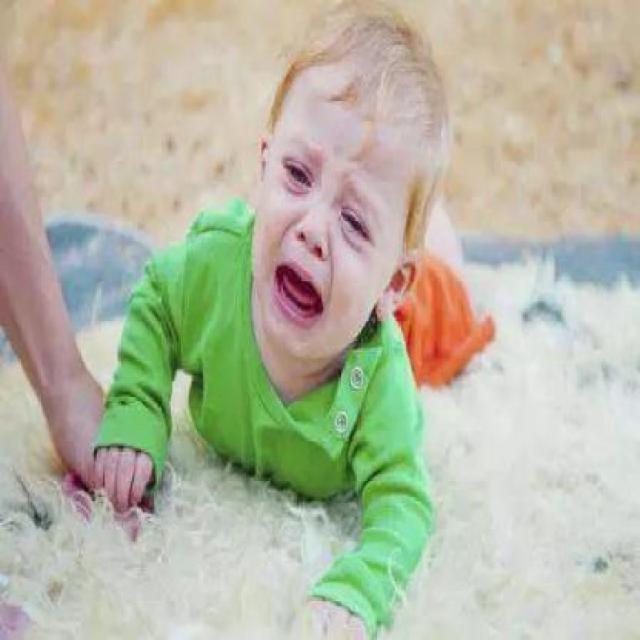fall: (75, 0, 490, 632)
